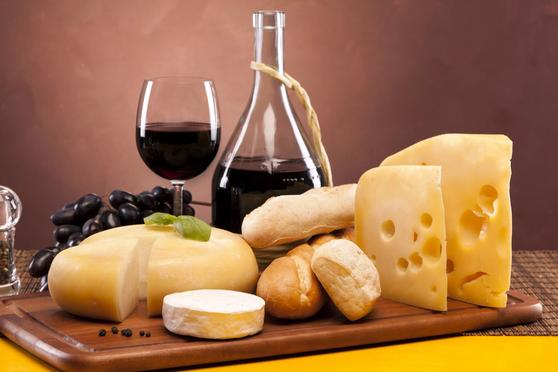cheese: (355, 166, 456, 314)
